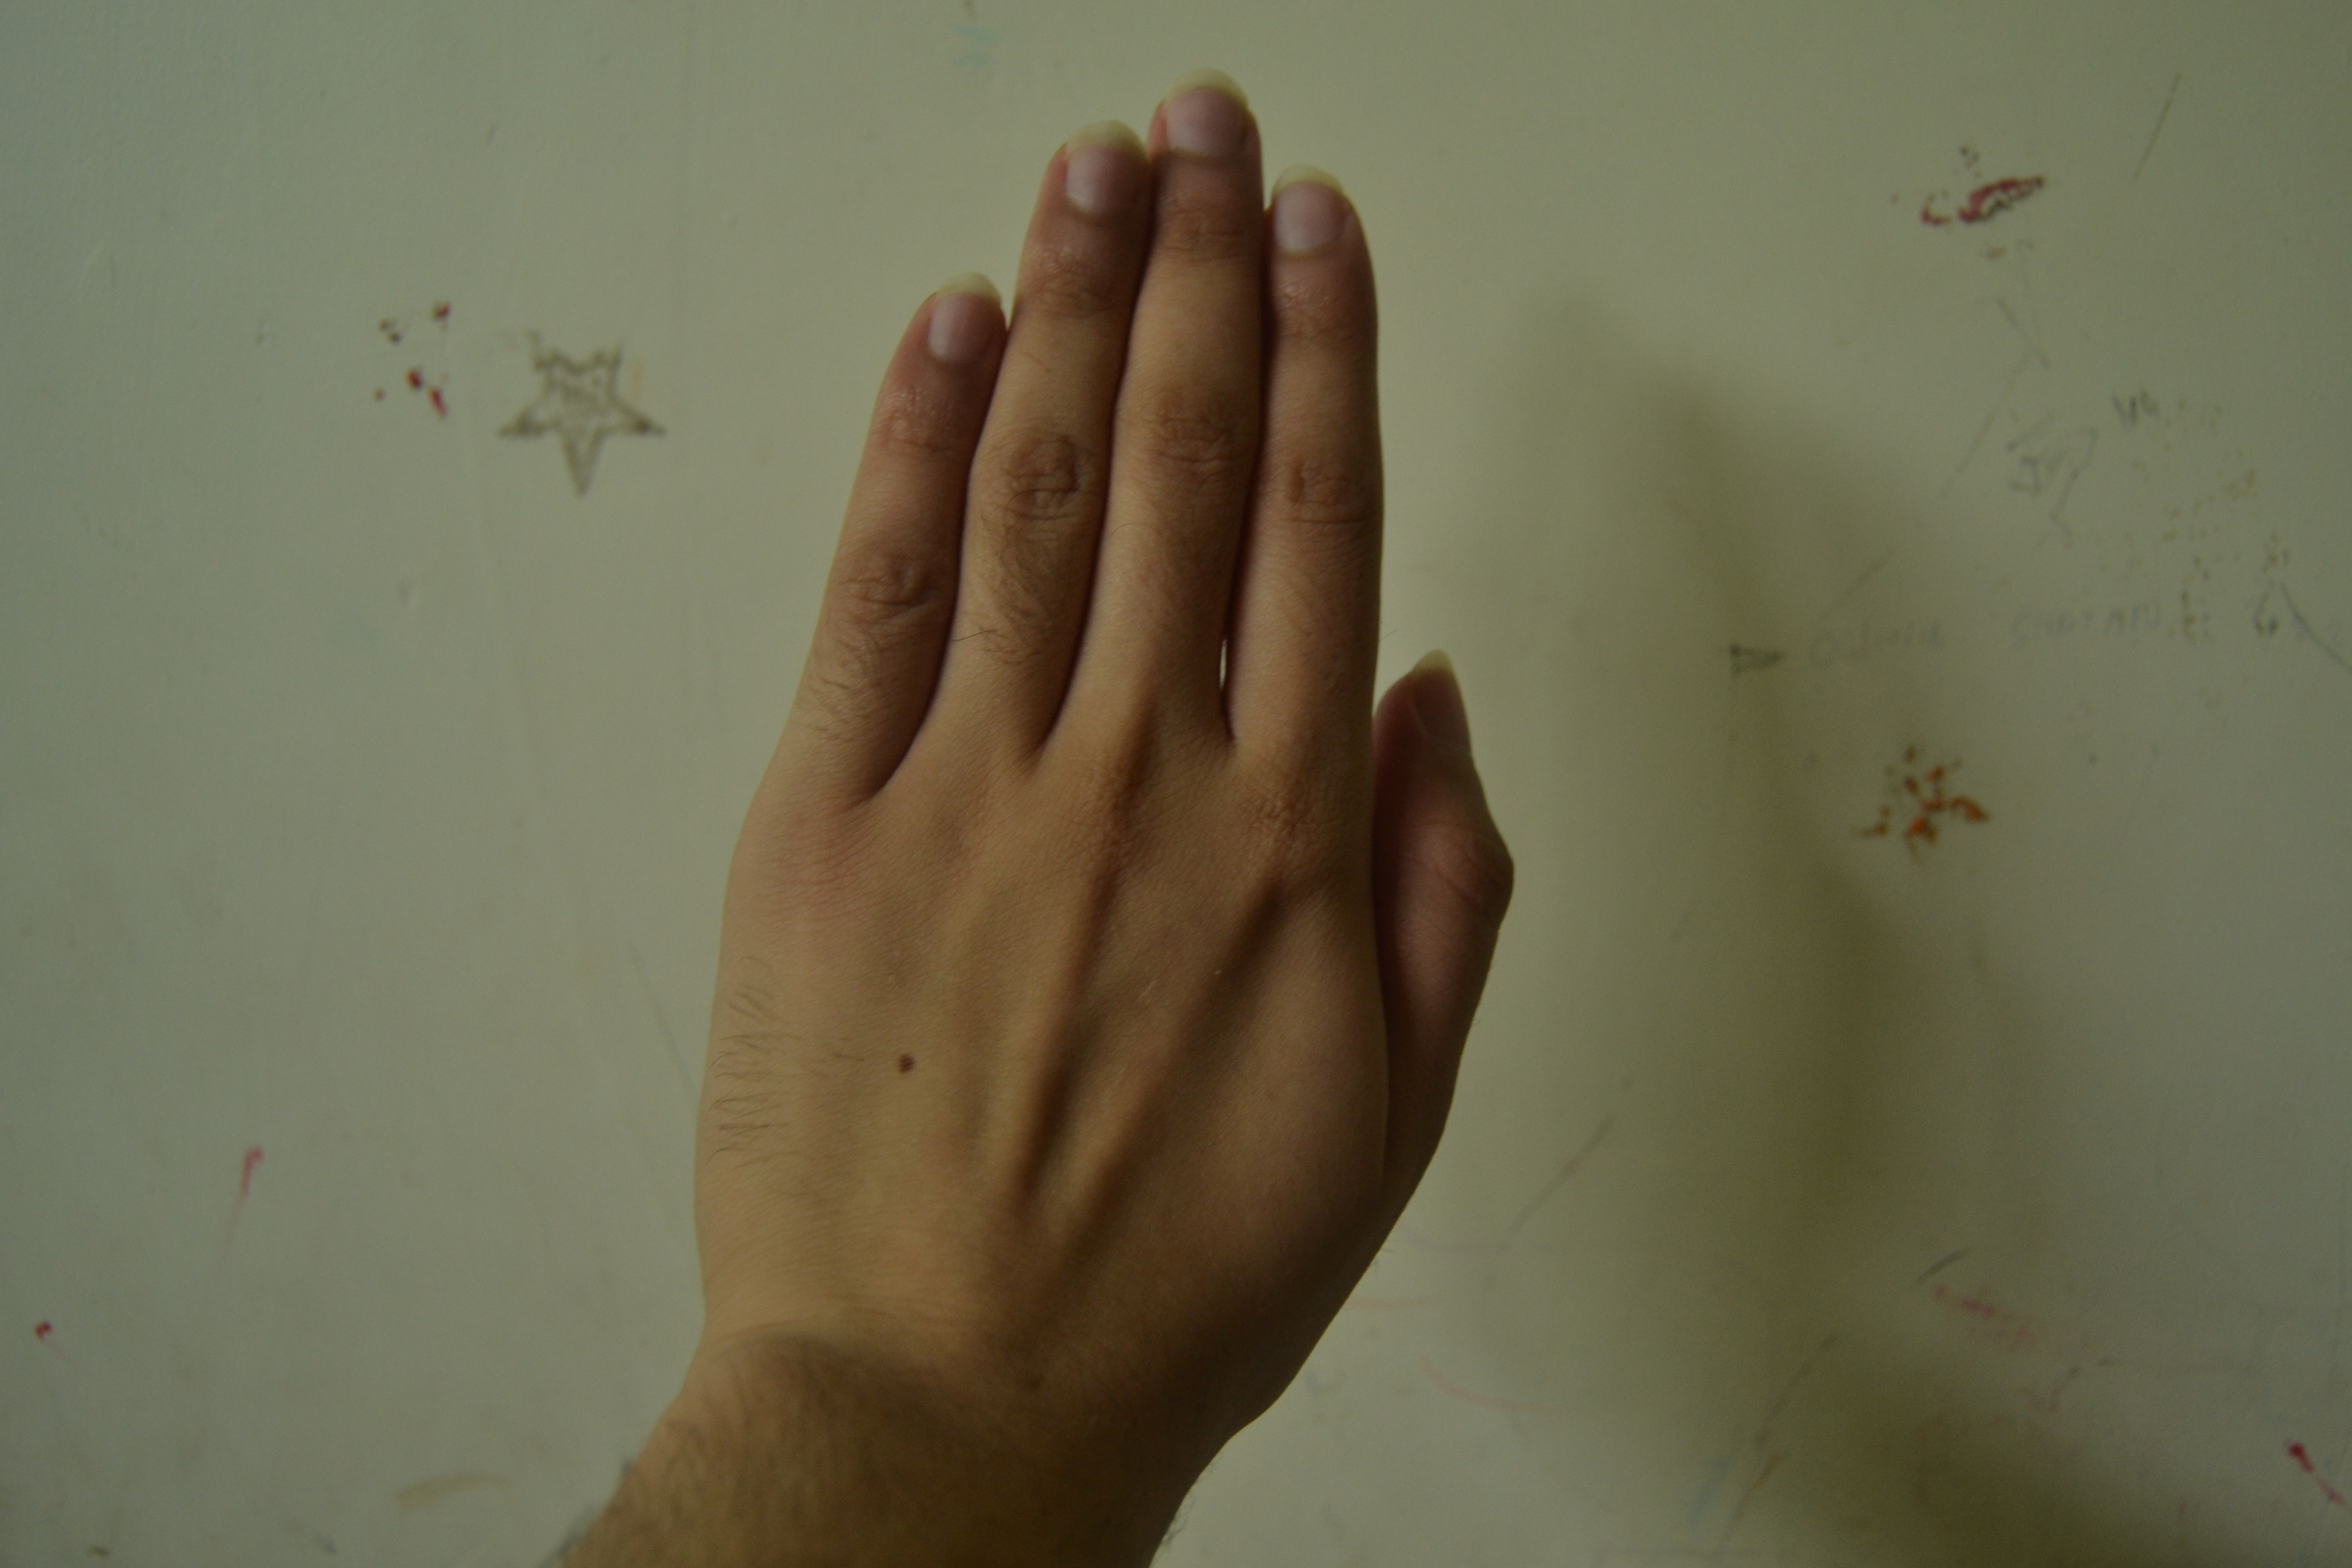move: (726, 63, 1557, 1367)
